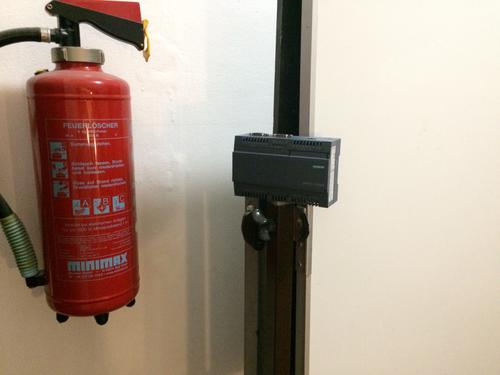iot2000: (231, 131, 341, 209)
